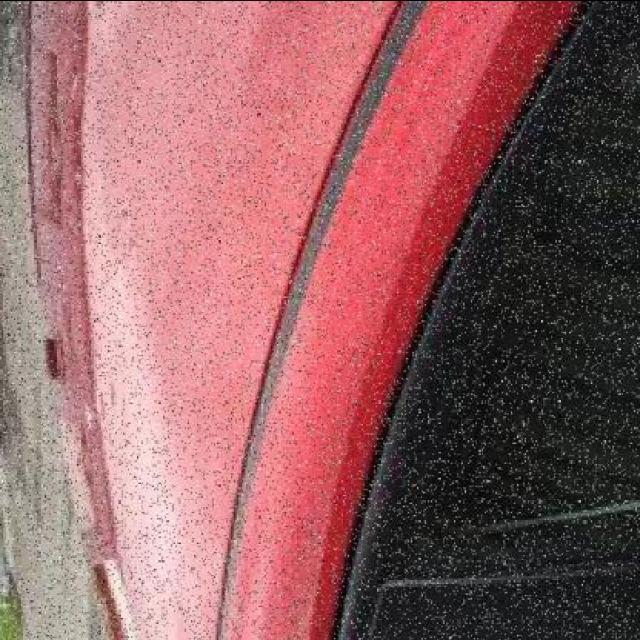roof-dent: (48, 143, 324, 493), (28, 2, 327, 136)
